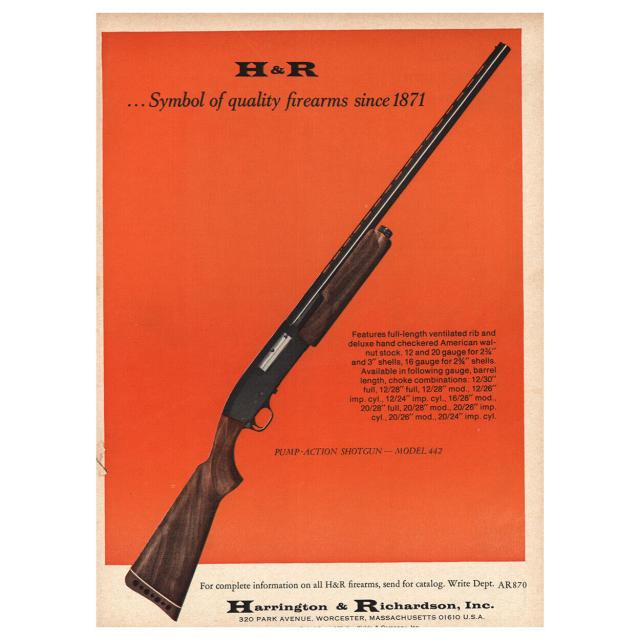ShotGun: (123, 41, 513, 621)
